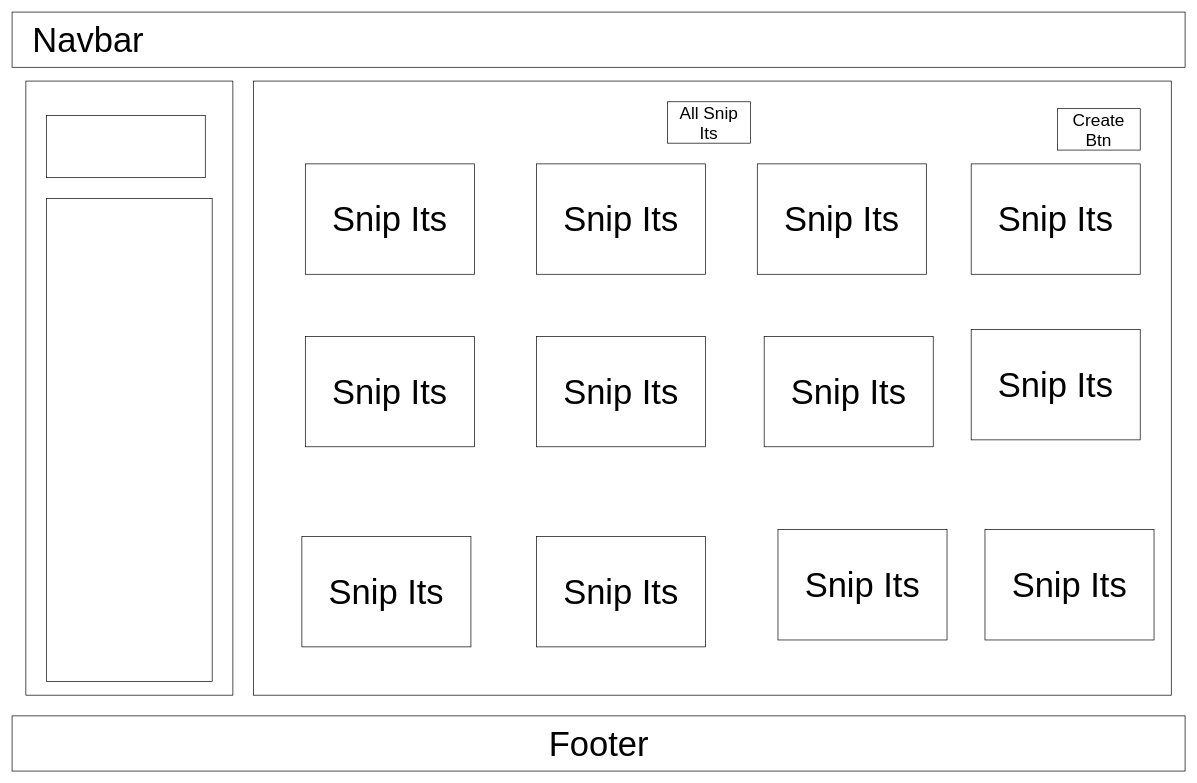
Image size: 1197x783. Some labels were removed from this diagram. The centre of each missing label's shape, as x and y in pixels:
"Filters" goes at point (129, 439).
"Search" goes at point (125, 146).
